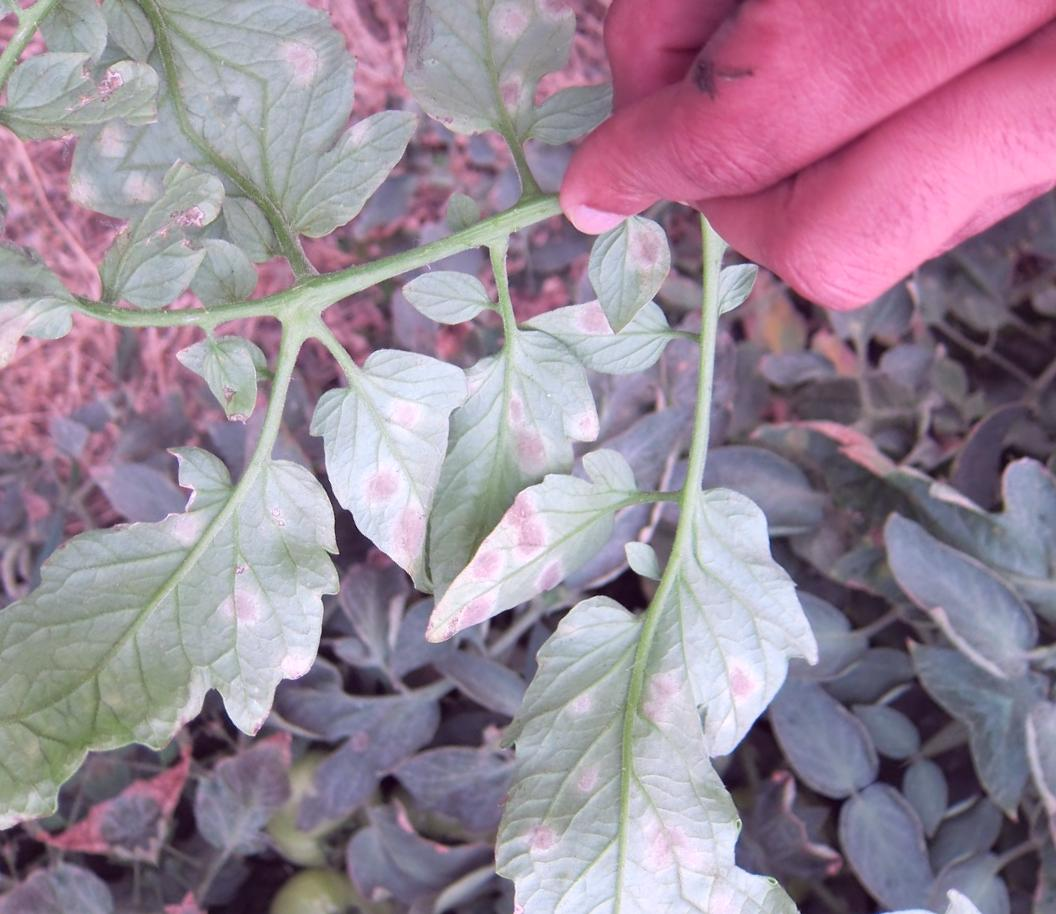Tomato mold leaf: (365, 470, 901, 914), (0, 403, 416, 814), (71, 17, 455, 334), (329, 299, 660, 617), (266, 303, 568, 621), (377, 427, 702, 691), (358, 0, 637, 206), (54, 145, 260, 342), (547, 201, 715, 368), (0, 223, 92, 443)
